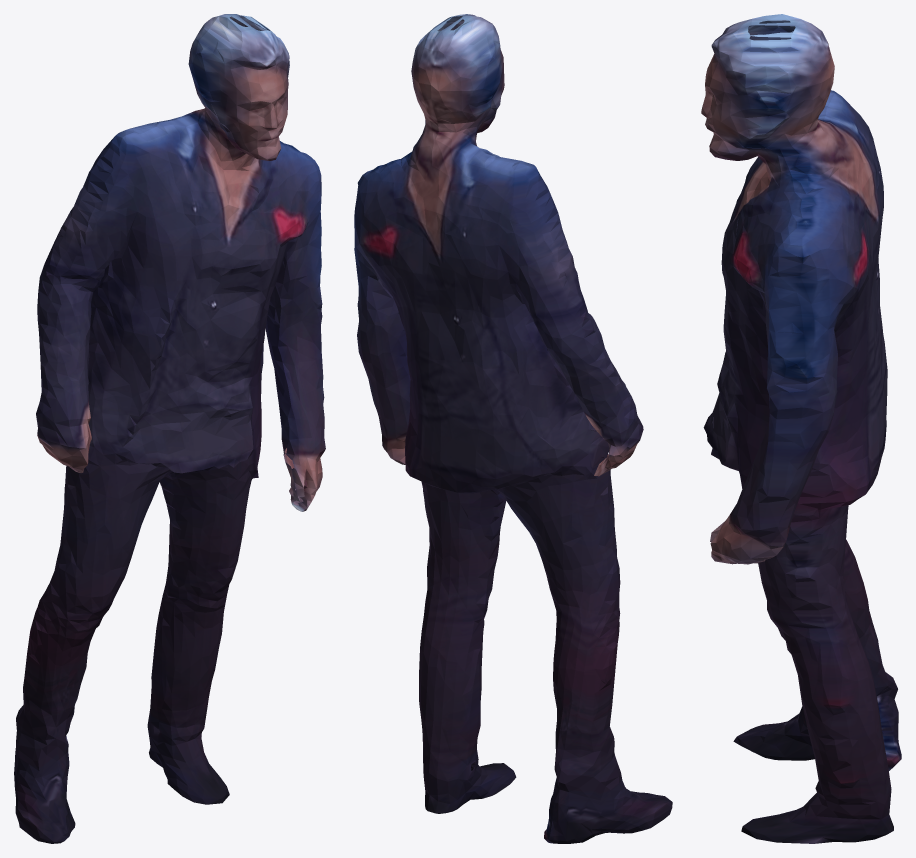
File: ranelid.fbx
3 views of the same model, side by side, from view 1: azimuth 30°, elevation 25°; view 2: azimuth 150°, elevation 25°; view 3: azimuth 270°, elevation 25° (orthographic). The views are drawn at different scales.
Parts seen in each view (by area): view 1: DecimatedRanelid; view 2: DecimatedRanelid; view 3: DecimatedRanelid.
Part boxes in pixels (bbox=[...]): DecimatedRanelid: bbox=[14, 14, 325, 843]; DecimatedRanelid: bbox=[354, 14, 672, 843]; DecimatedRanelid: bbox=[701, 14, 901, 843].
Size of the model in its own units: 328 by 805 by 176.
